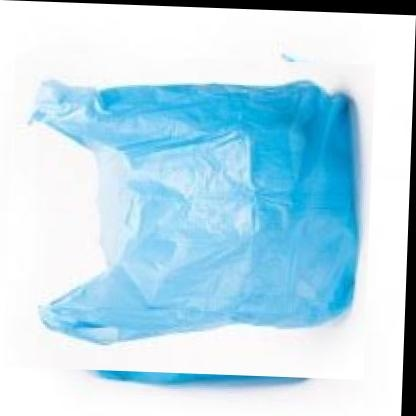trash: (32, 81, 358, 343)
